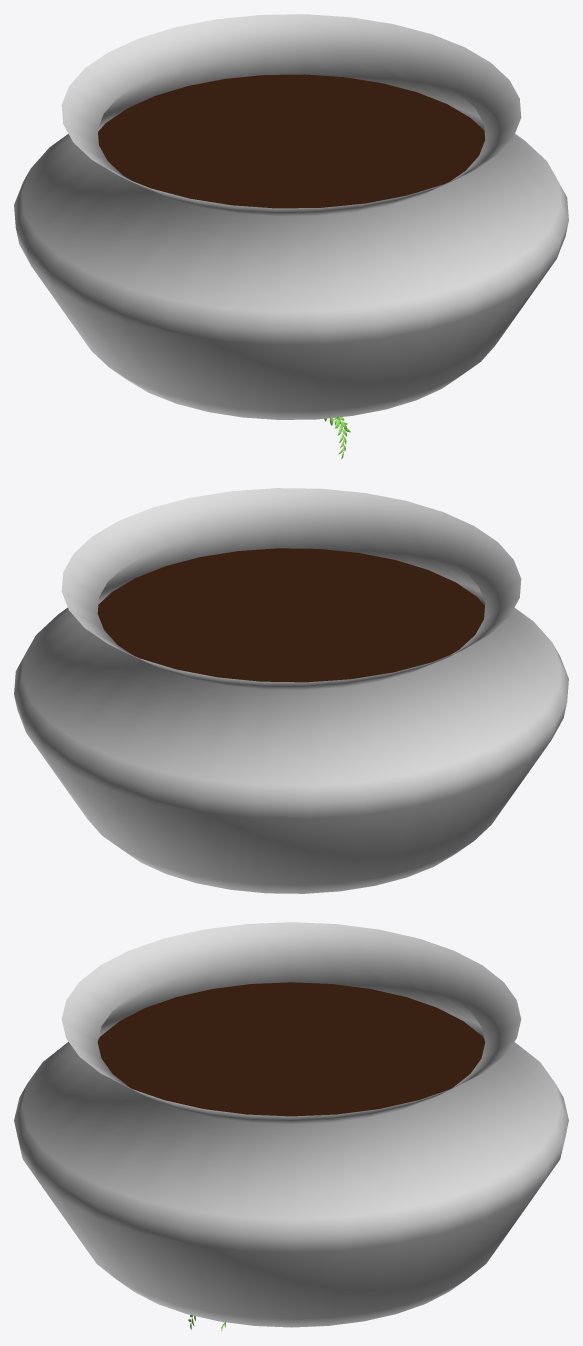
Rendered from plant.glb.
The picture shows the model from 3 angles, top to bottom: view 1: azimuth 30°, elevation 25°; view 2: azimuth 150°, elevation 25°; view 3: azimuth 270°, elevation 25°; orthographic projection.
Visible parts, largest first — view 1: Circle, Circle.001; view 2: Circle, Circle.001; view 3: Circle, Circle.001.
Boxes of the visible parts, bbox=[...] form: Circle: bbox=[14, 14, 568, 419]; Circle.001: bbox=[98, 74, 485, 208]; Circle: bbox=[14, 488, 568, 893]; Circle.001: bbox=[97, 548, 484, 682]; Circle: bbox=[14, 922, 568, 1327]; Circle.001: bbox=[97, 982, 485, 1116].
Size of what is drawn, in the model's own units: 2.86 by 1.77 by 2.86.
